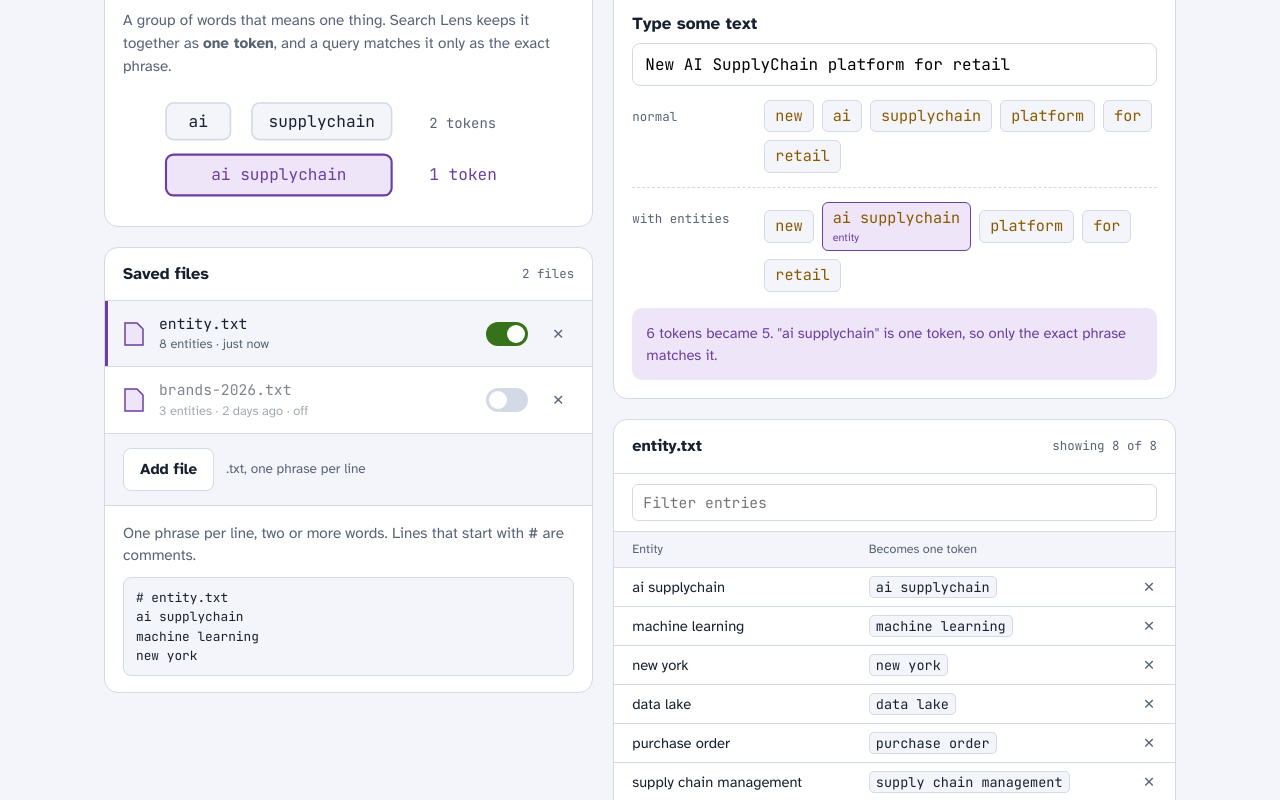
it: Word lists page › R2.5 shows the entries of the chosen file with a filter
(page scrolled)
Click the button "brands-2026.txt 3 entities · 2 days ago · off": (225, 390) top-left (159, 380), bottom-right (472, 421)
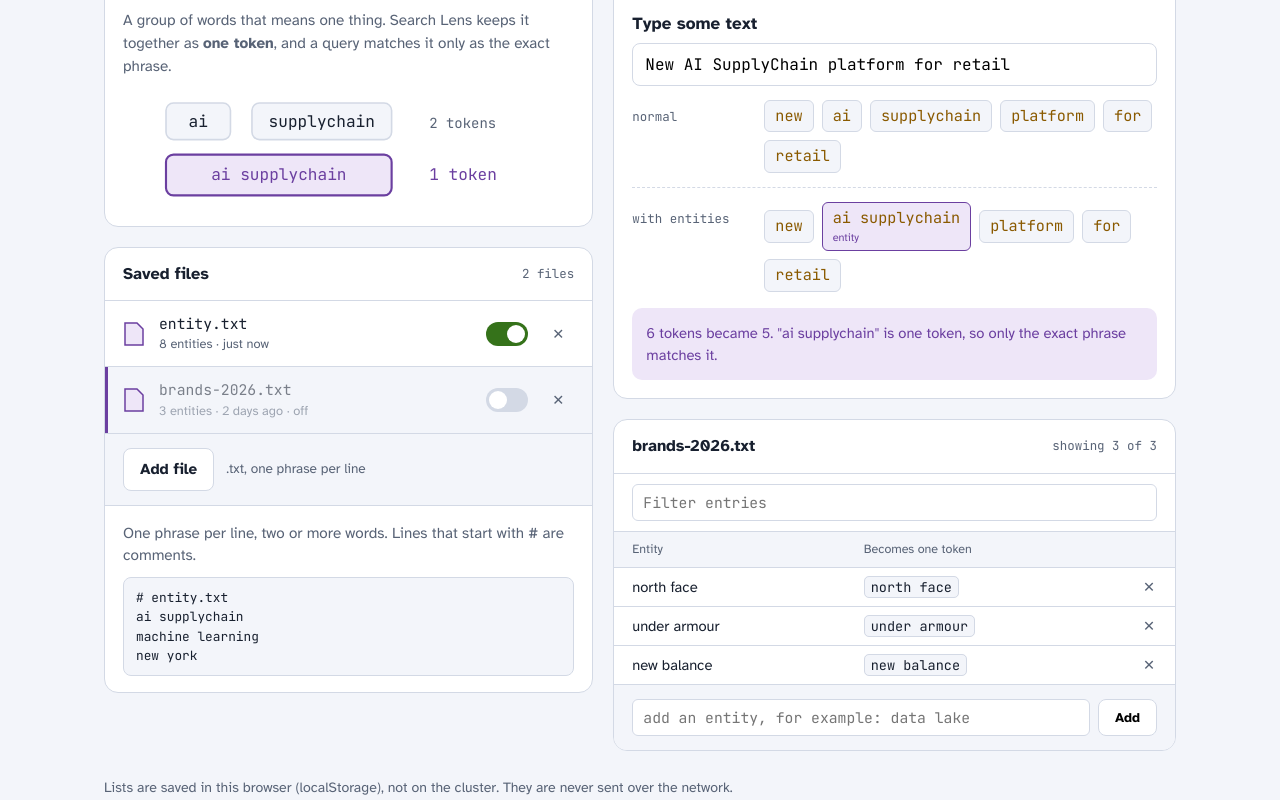
Expected: the heading "brands-2026.txt showing 3 of 3" is shown, top-left (614, 420), bottom-right (1175, 474)
In the search field labelled "Filter entries": (895, 502) top-left (632, 484), bottom-right (1157, 521), type "new"
(page scrolled)
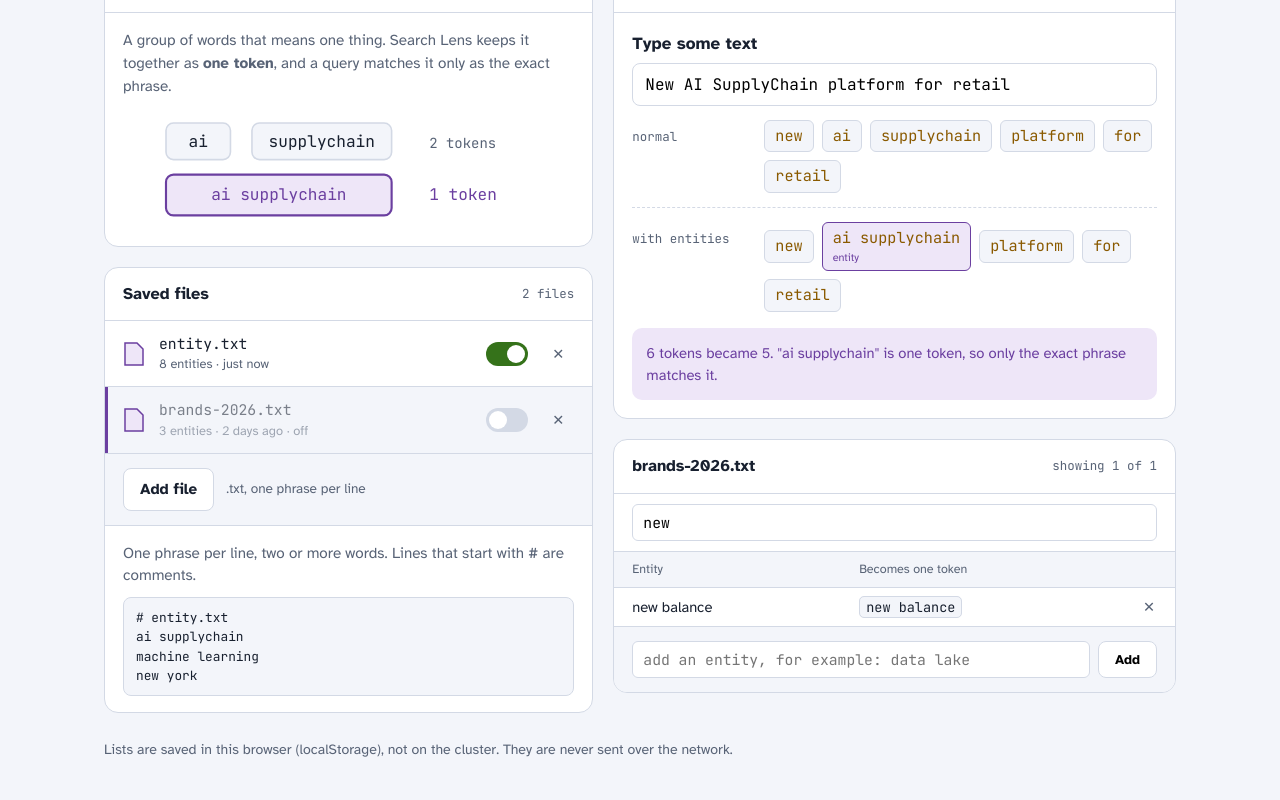
Result: the row "new balance new balance ✕" is shown at top-left (614, 587), bottom-right (1175, 626)
Result: the heading "brands-2026.txt showing 1 of 1" is shown at top-left (614, 440), bottom-right (1175, 494)
